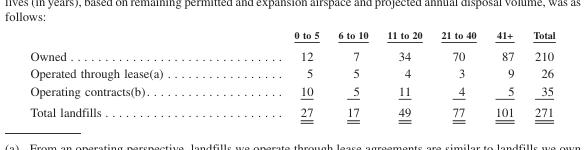table: (29, 28, 554, 119)
table column: (29, 28, 228, 119), (228, 28, 328, 119), (377, 28, 431, 119), (431, 28, 485, 119), (328, 28, 377, 119), (485, 28, 522, 119), (522, 28, 554, 119)
table column header: (29, 28, 554, 44)
table row: (29, 44, 554, 64), (29, 81, 554, 101), (29, 101, 554, 119), (29, 64, 554, 81), (29, 28, 554, 44)
